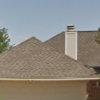Chimney: (59, 22, 91, 65)
